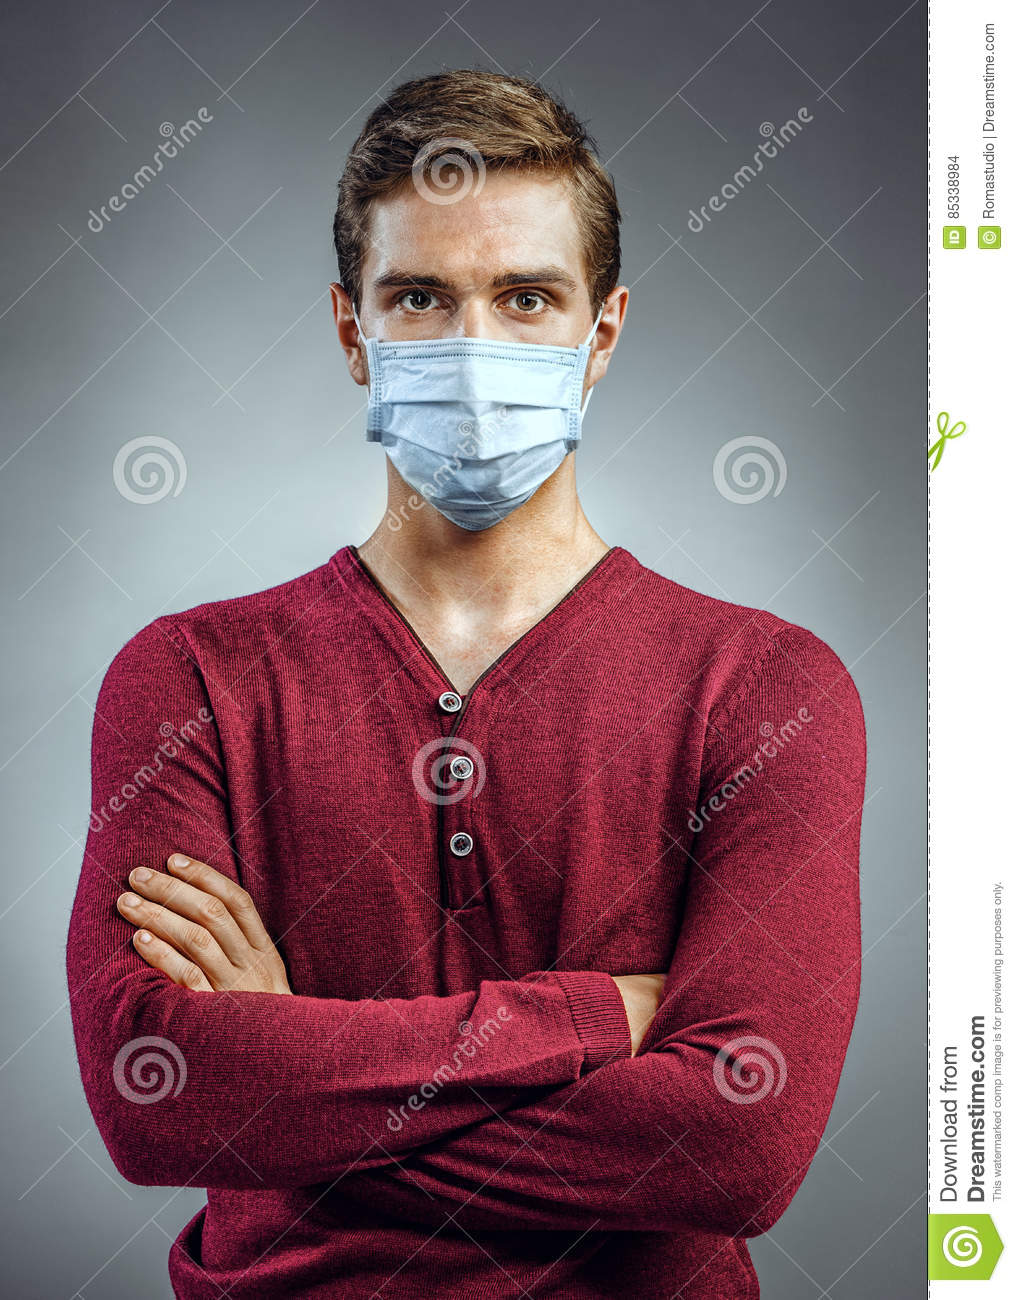mask: (358, 339, 586, 501)
